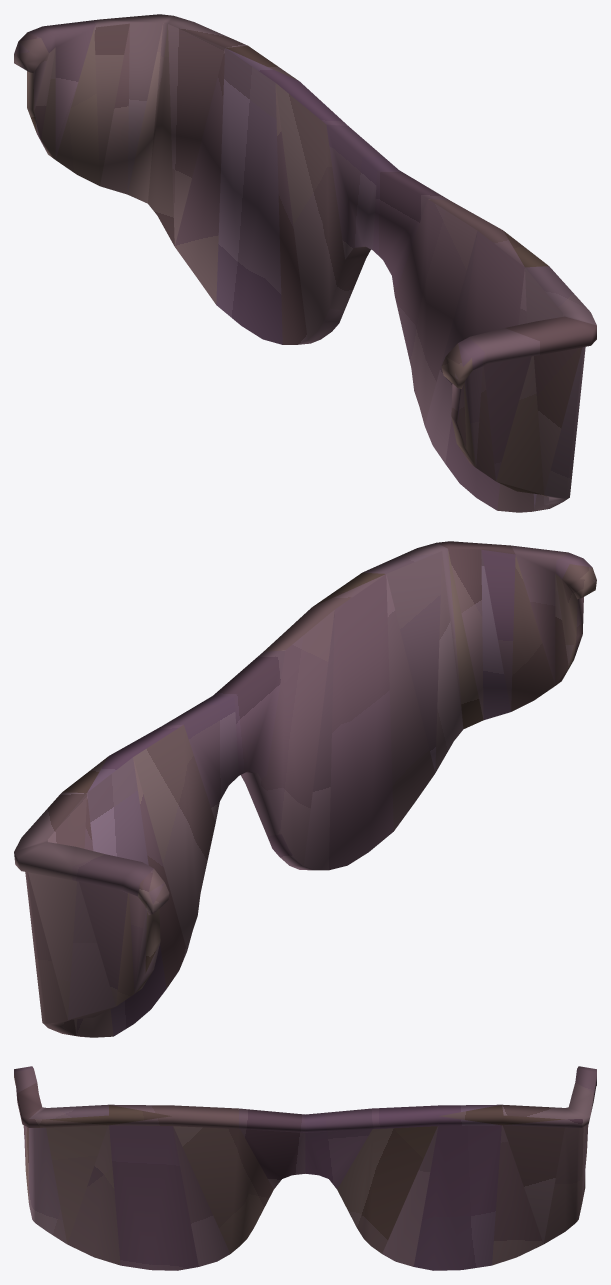
The model's file is sunglasses-visor.glb.
3 renders of one model, top to bottom at view 1: azimuth 30°, elevation 25°; view 2: azimuth 150°, elevation 25°; view 3: azimuth 270°, elevation 25°, orthographic. The views are drawn at different scales.
Parts seen in each view (by area): view 1: tripo_node_ff2713f8-a346-4aa7-9490-4da83f553140; view 2: tripo_node_ff2713f8-a346-4aa7-9490-4da83f553140; view 3: tripo_node_ff2713f8-a346-4aa7-9490-4da83f553140.
Boxes of the visible parts, x1=… form: tripo_node_ff2713f8-a346-4aa7-9490-4da83f553140: x1=14, y1=14, x2=596, y2=512; tripo_node_ff2713f8-a346-4aa7-9490-4da83f553140: x1=14, y1=541, x2=596, y2=1037; tripo_node_ff2713f8-a346-4aa7-9490-4da83f553140: x1=14, y1=1066, x2=596, y2=1270.
Bounding box in the file's own units: 0.1487 × 0.2153 × 0.6849.
1 material, 1 textured.
